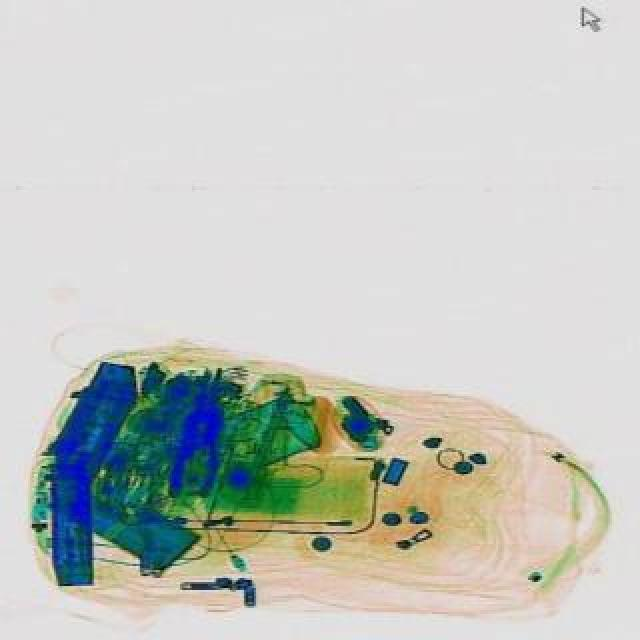wrench: (166, 364, 232, 500)
